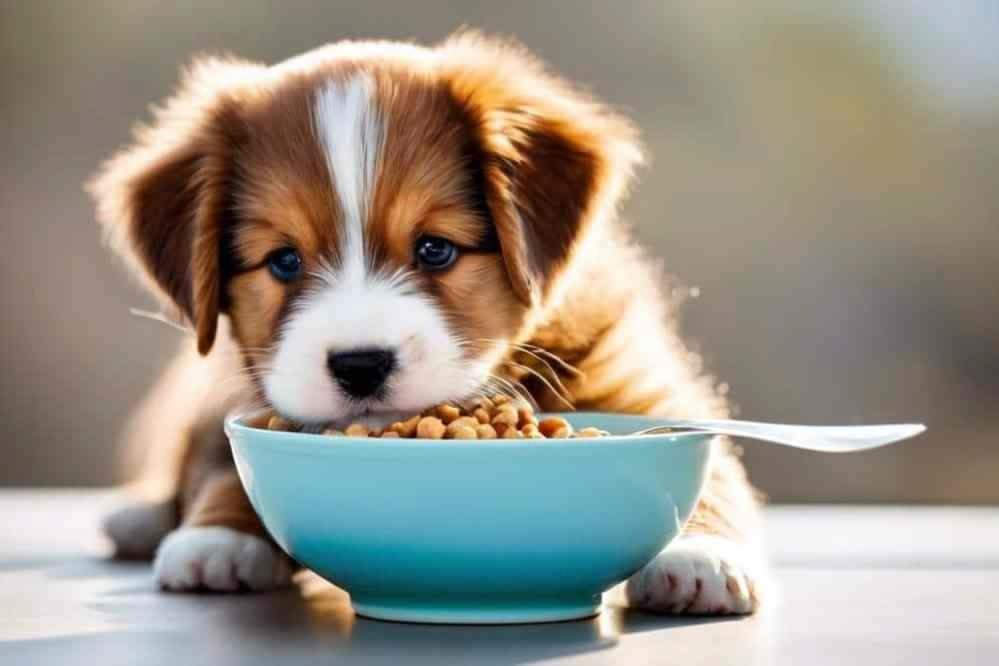puppy-dog: (80, 32, 767, 620)
